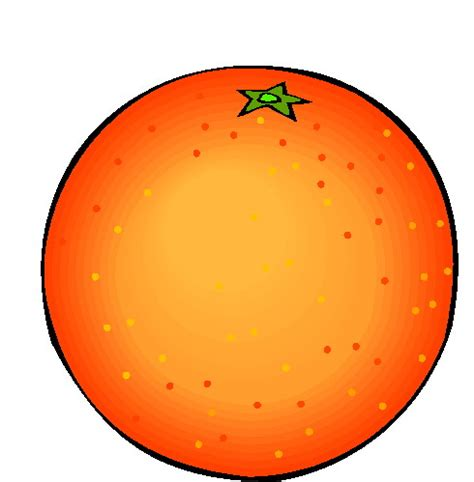orange: (36, 55, 461, 482)
